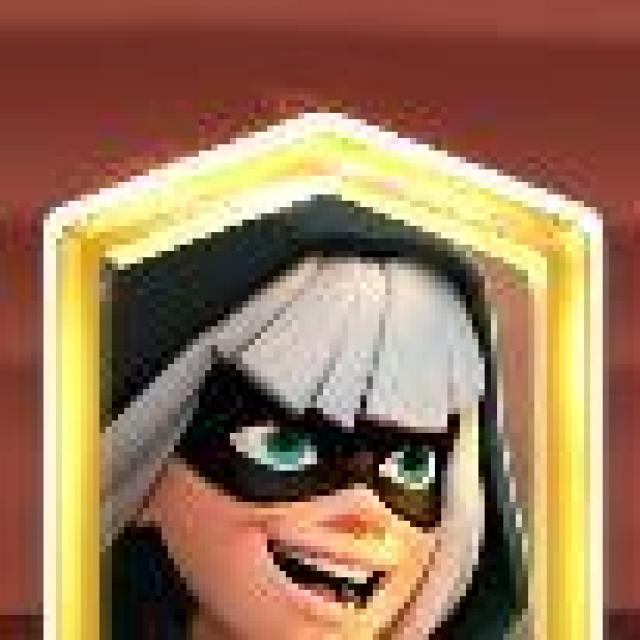Bandit: (39, 111, 603, 640)
